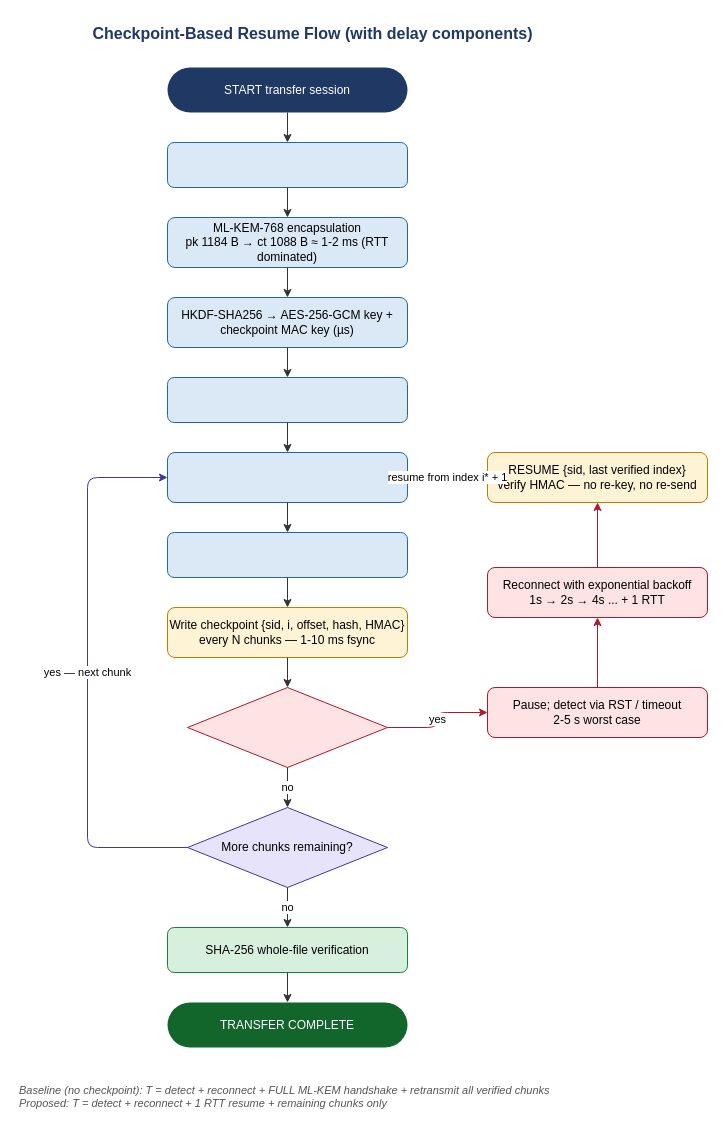
This 725x1134 diagram has some shape labels left out. Here are the shapes that lost their labels. From the top down, the centre of each, then its label:
At (x=287, y=165): "TCP connect (3-way handshake) ≈ 1.5 RTT".
At (x=287, y=399): "Split file into sequenced chunks (64 KB)".
At (x=287, y=477): "Encrypt chunk i and send [seq | nonce | ct | tag] T_tx = size / bandwidth".
At (x=287, y=555): "Receiver verifies tag + hash, sends ACK (+1 RTT)".
At (x=287, y=727): "Link disrupted?".
